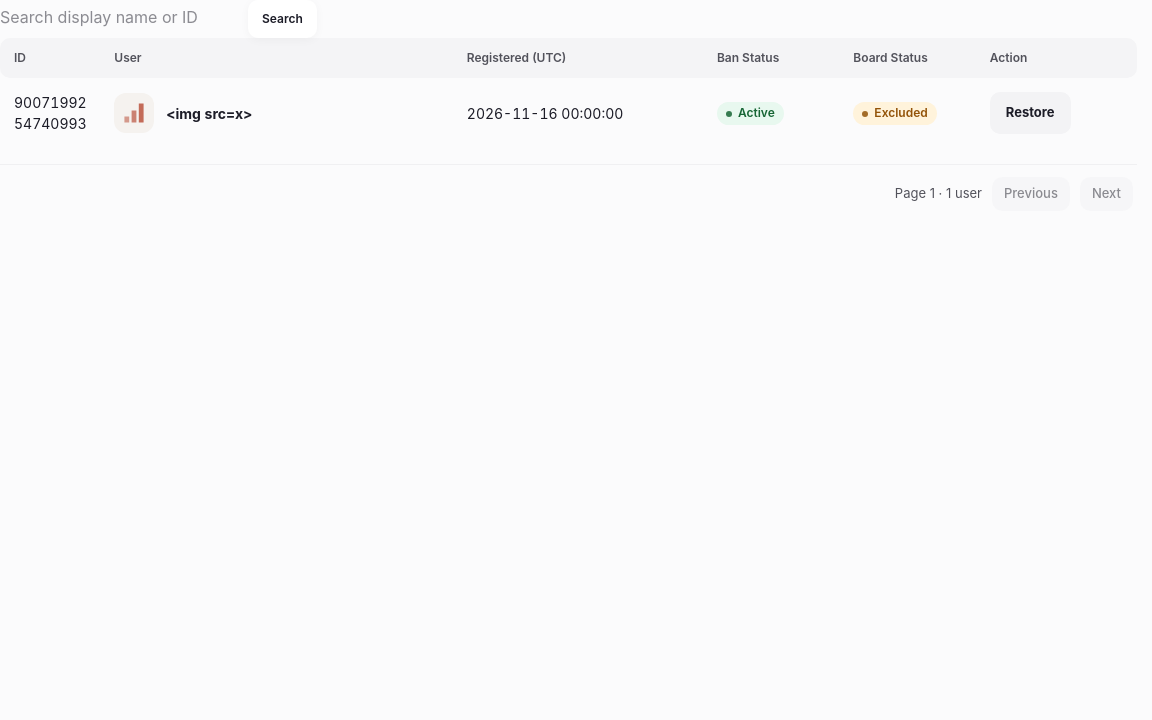
Test: restores eligibility with an explicit false state and refreshes the user list
Click the button "Restore" at (1030, 113), box top-left (990, 92), bottom-right (1070, 134)
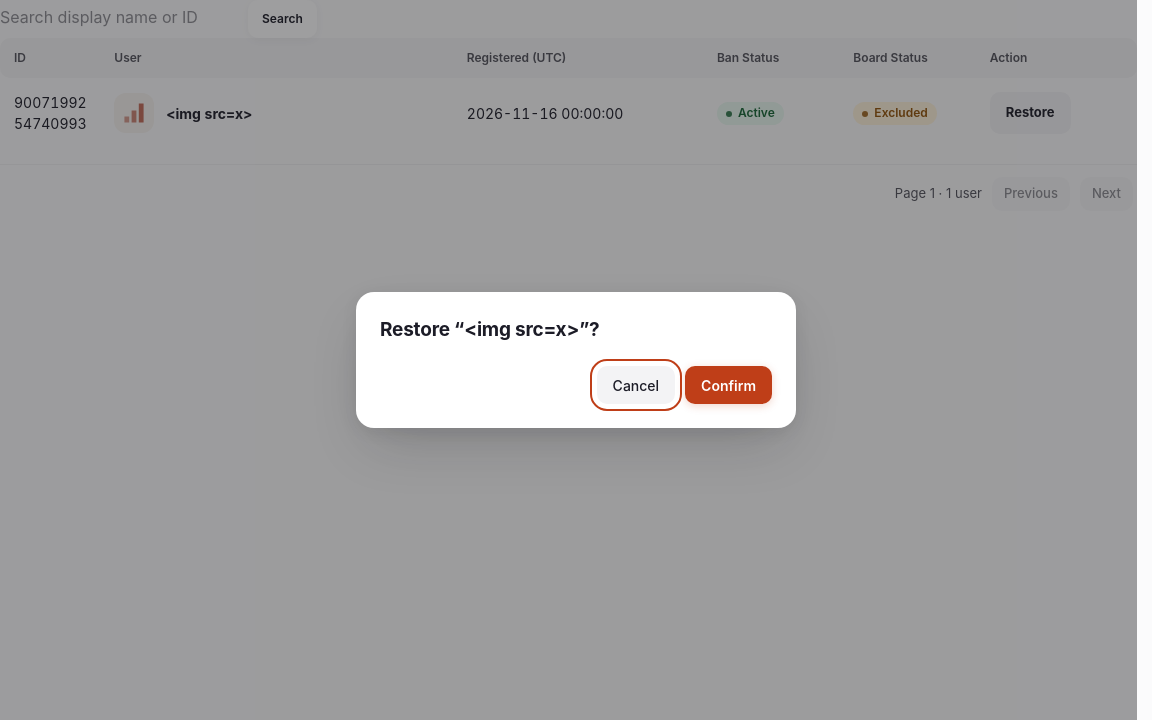
Click the button "Confirm" at (729, 385), box top-left (685, 366), bottom-right (772, 404)
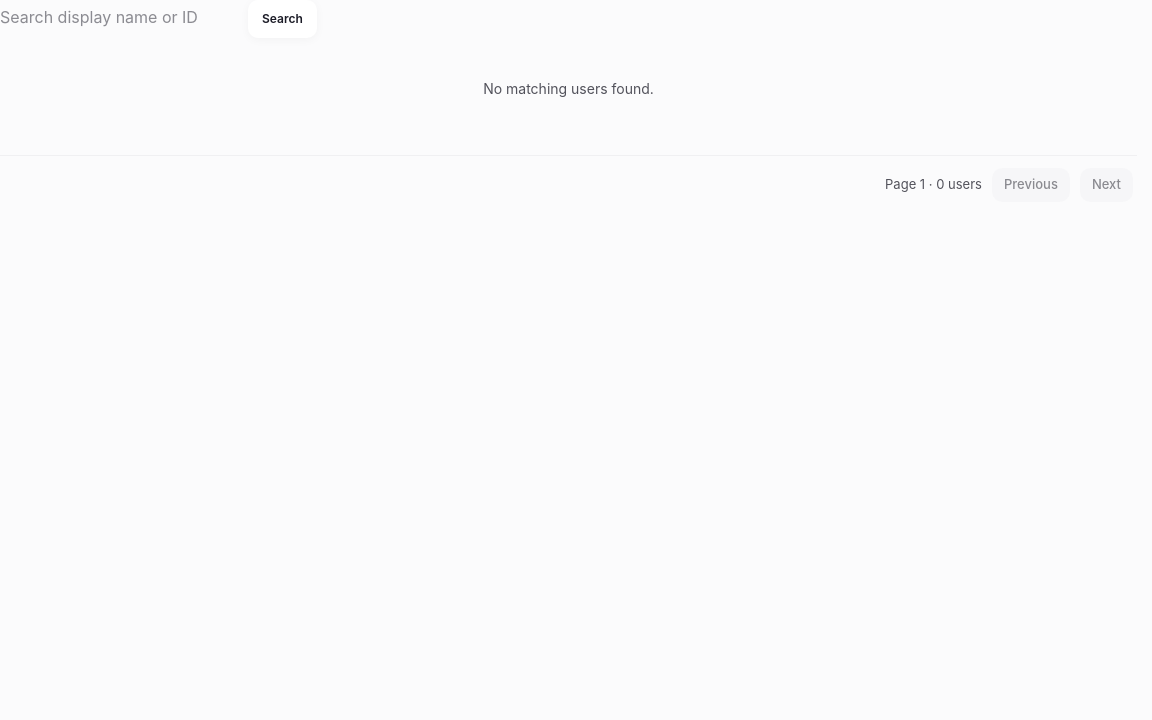
expect the text "No matching users found." is shown: met, box top-left (483, 80), bottom-right (654, 97)
